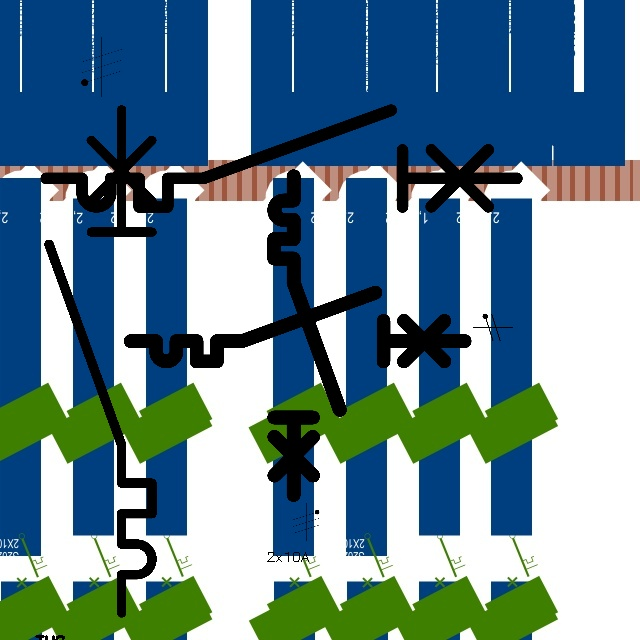interruptor_termomagnetico: (36, 96, 165, 625), (34, 98, 529, 219), (122, 284, 473, 370), (266, 168, 348, 503)
